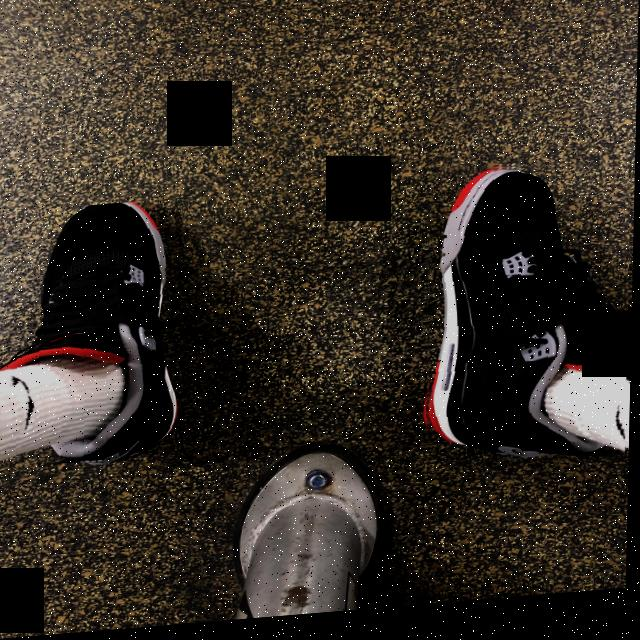shoe: (422, 164, 632, 480), (2, 201, 184, 487)
